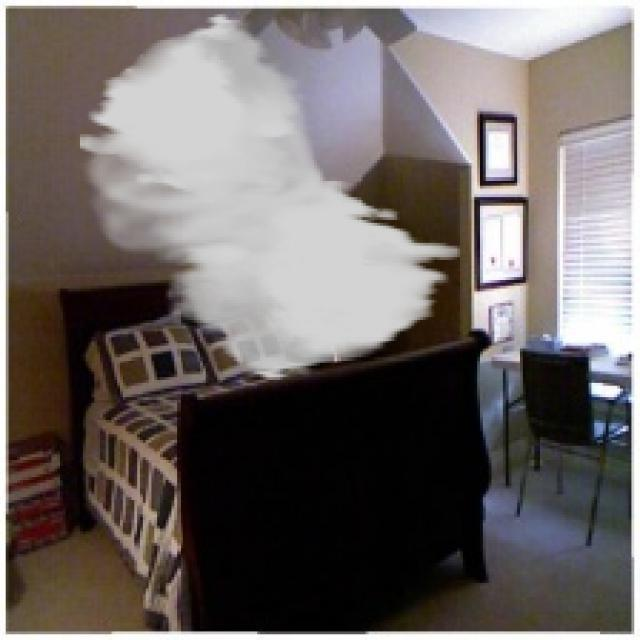Smoke: (77, 11, 460, 380)
